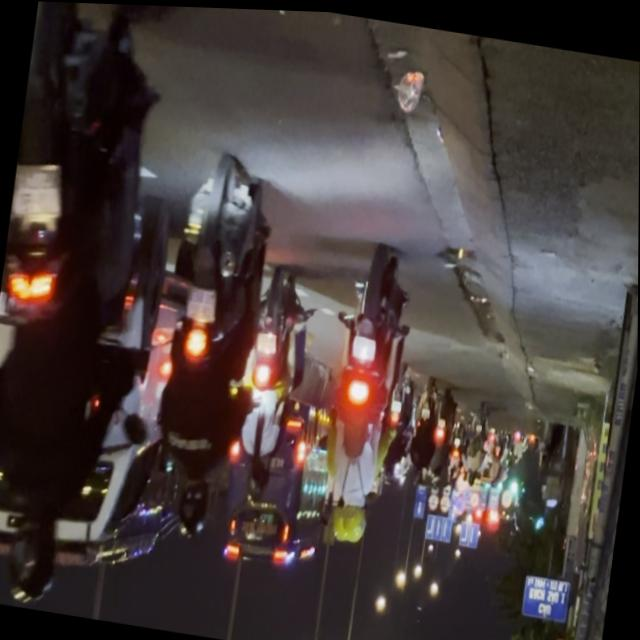helmet: (0, 504, 62, 607), (171, 472, 211, 538), (329, 491, 366, 543)
licenseplate: (0, 0, 185, 620), (139, 139, 284, 548), (311, 239, 419, 550)
nohelmet: (9, 161, 64, 227), (183, 285, 217, 321), (349, 332, 375, 359)
